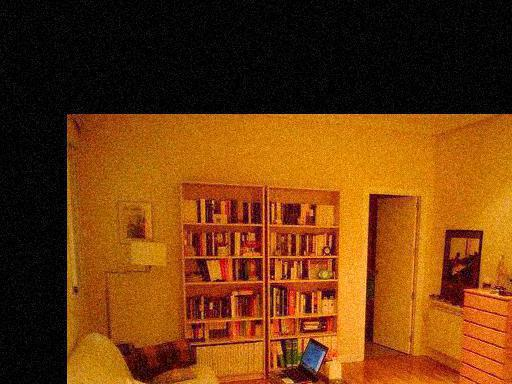Puerta: (377, 199, 413, 348)
